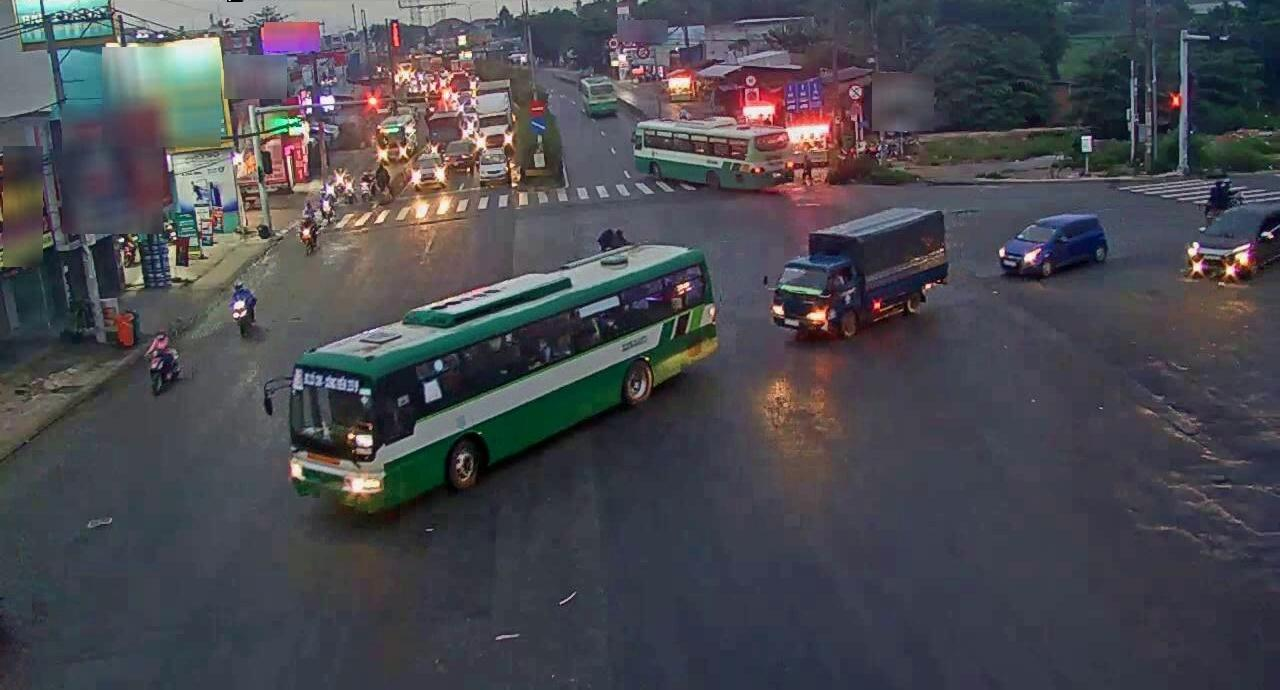xe buyt: (290, 269, 714, 497), (635, 115, 789, 190)
xe hoi: (993, 209, 1107, 277)
xe may: (143, 332, 183, 405), (594, 212, 633, 276), (226, 277, 258, 333), (296, 210, 321, 254)
xe tai: (778, 210, 945, 328)
